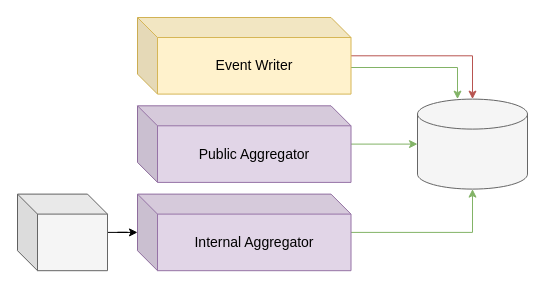
Some shapes in this 545 by 289 pixel diagram are drawn without their labels. Each missing label, with the box of its shape:
Alert Service: (16, 193, 108, 271)
Database: (416, 98, 528, 189)
